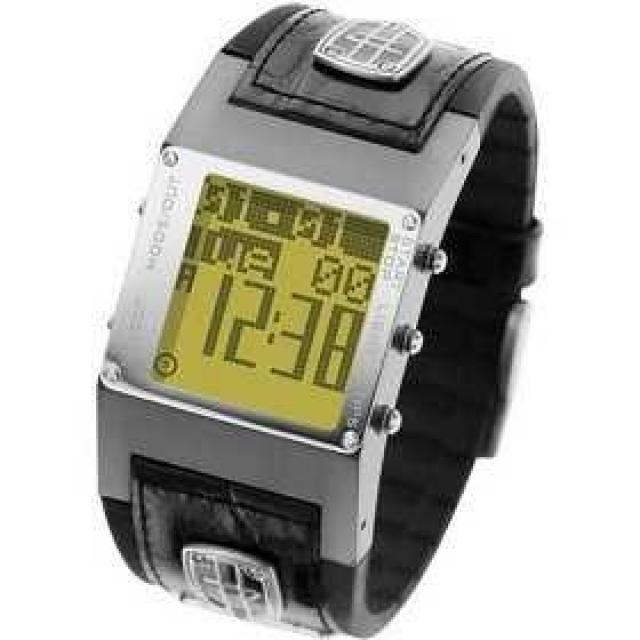watch: (112, 150, 416, 490)
